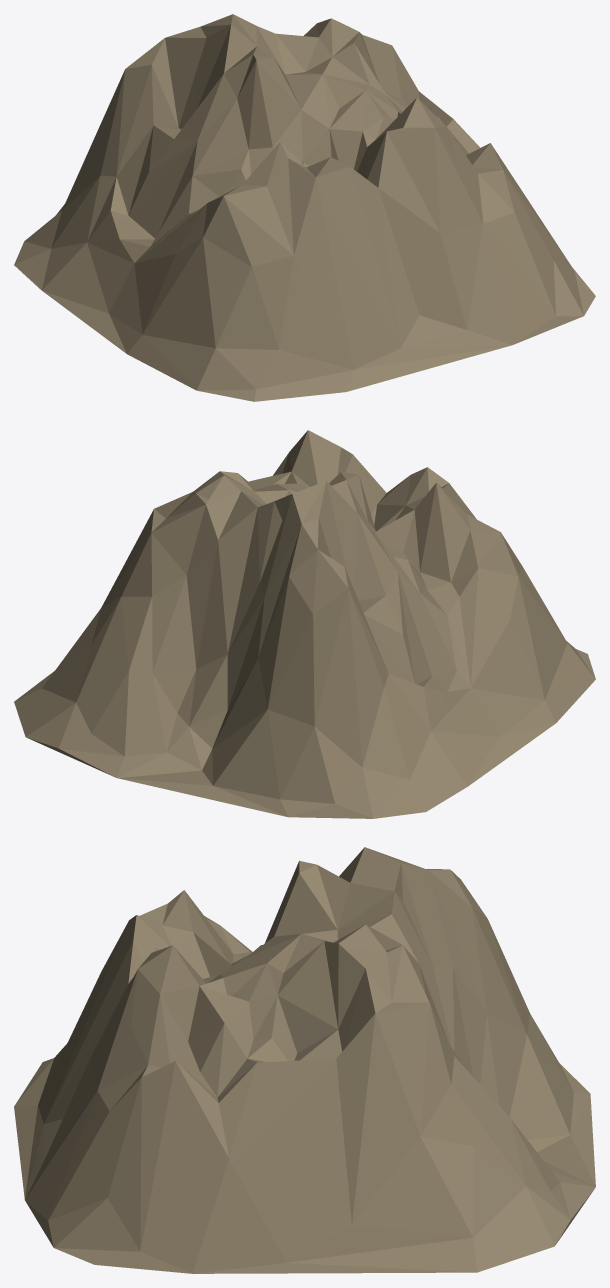
File: Mountain_1.fbx
3 renders of one model, top to bottom at view 1: azimuth 30°, elevation 25°; view 2: azimuth 150°, elevation 25°; view 3: azimuth 270°, elevation 25°, orthographic. The views are drawn at different scales.
Visible parts, largest first — view 1: Mountain_1; view 2: Mountain_1; view 3: Mountain_1.
Boxes of the visible parts, <box> form: Mountain_1: <box>14,14,595,401</box>; Mountain_1: <box>14,430,595,818</box>; Mountain_1: <box>14,847,595,1273</box>.
Size of the model in its own units: 728 by 400 by 751.
